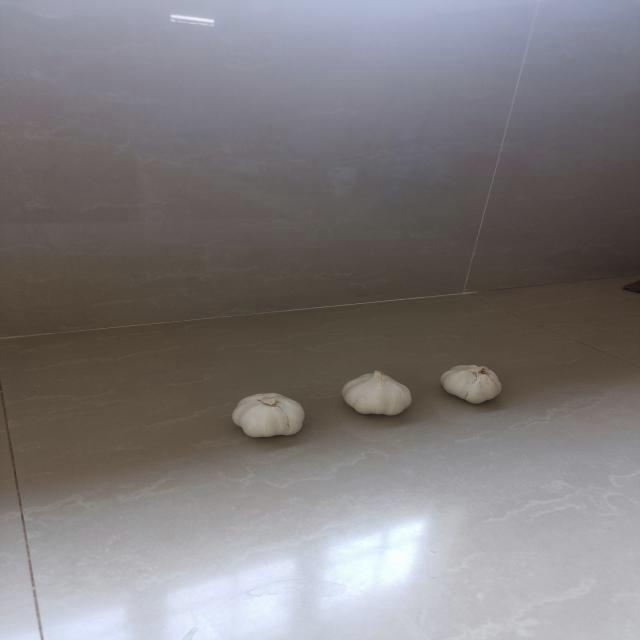garlic: (232, 390, 311, 437), (341, 371, 415, 418), (439, 361, 507, 408)
